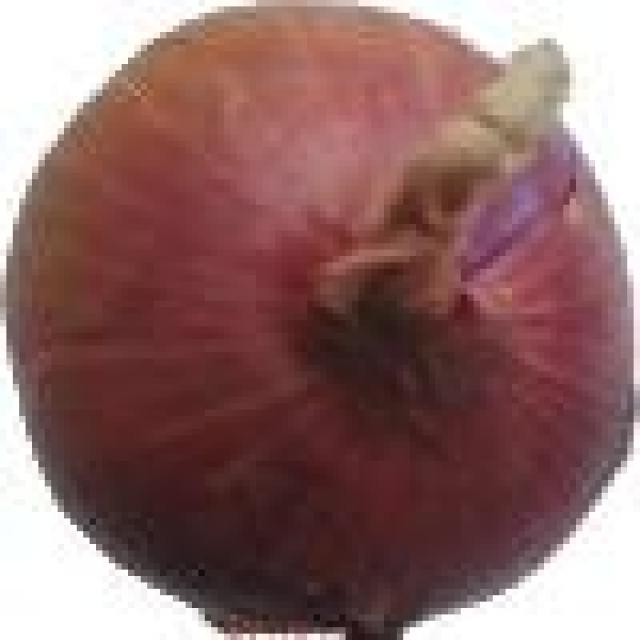Onion: (6, 6, 621, 634)
